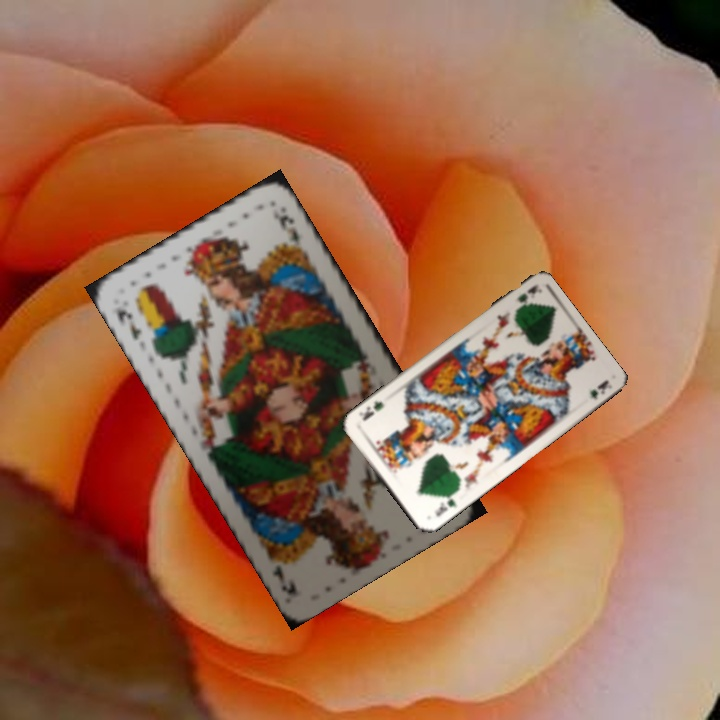EK: (113, 303, 145, 344)
GK: (430, 487, 459, 519), (513, 282, 542, 305)
